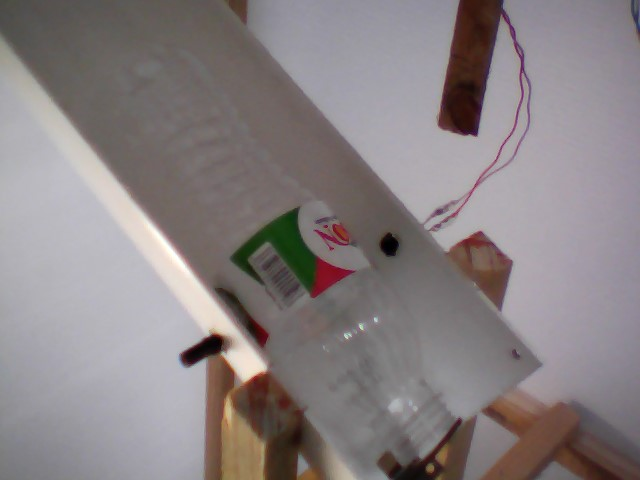plastico: (81, 33, 461, 469)
